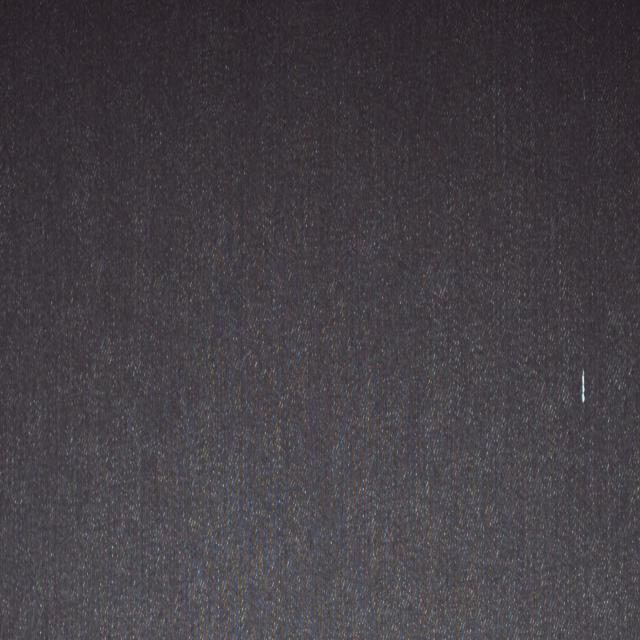Knot: (582, 370, 587, 404)
